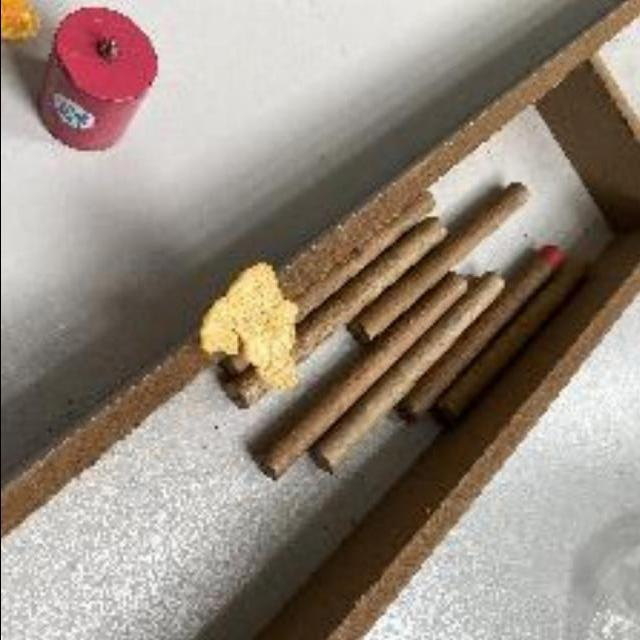orange peel: (202, 270, 302, 394)
